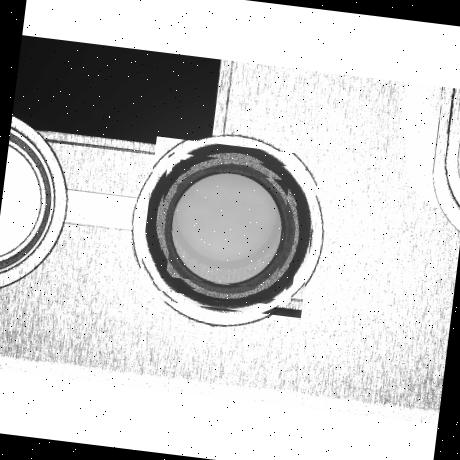Hole: (137, 136, 322, 320)
Hole2: (152, 152, 308, 308)
Hole3: (158, 158, 300, 302)
Hole4: (166, 167, 290, 291)
